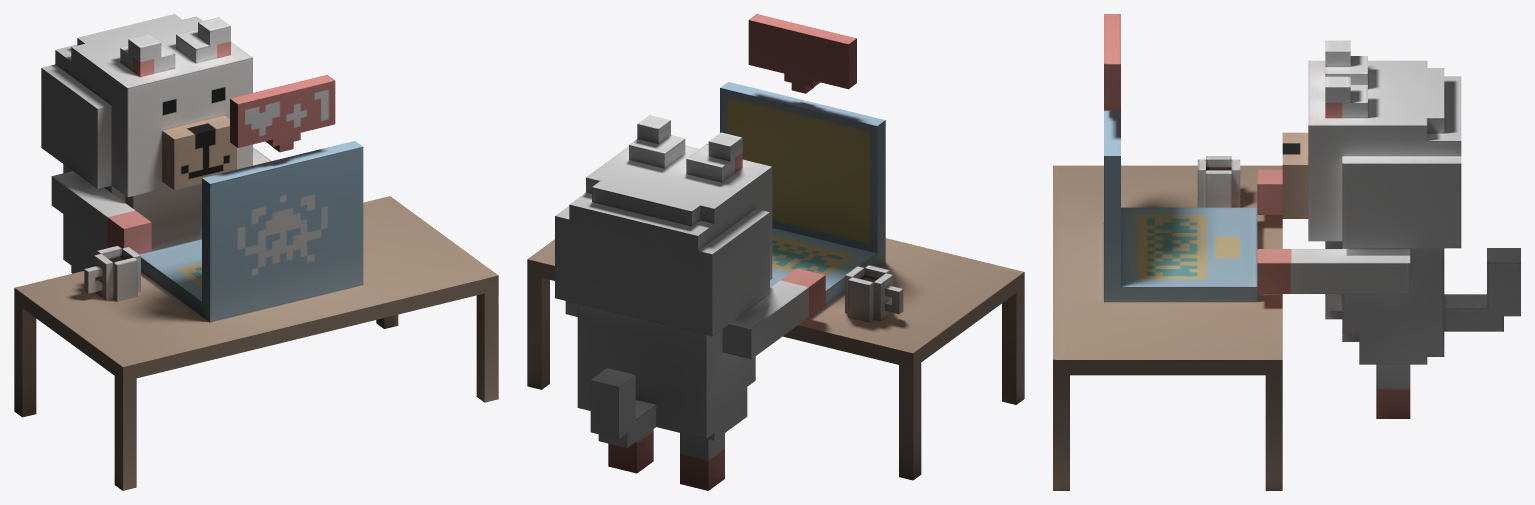
Rendered from dog.glb.
3 views of the same model, side by side, from view 1: azimuth 30°, elevation 25°; view 2: azimuth 150°, elevation 25°; view 3: azimuth 270°, elevation 25° (orthographic). The views are drawn at different scales.
Visible parts, largest first — view 1: Untitled; view 2: Untitled; view 3: Untitled.
Boxes of the visible parts, x1,y1,x2,y2 form: Untitled: (14,14,498,490); Untitled: (527,14,1024,490); Untitled: (1053,14,1520,490).
Size of what is drawn, in the model's own units: 5.4 by 4.6 by 5.5.
Materials: 1 (1 with a texture image).
